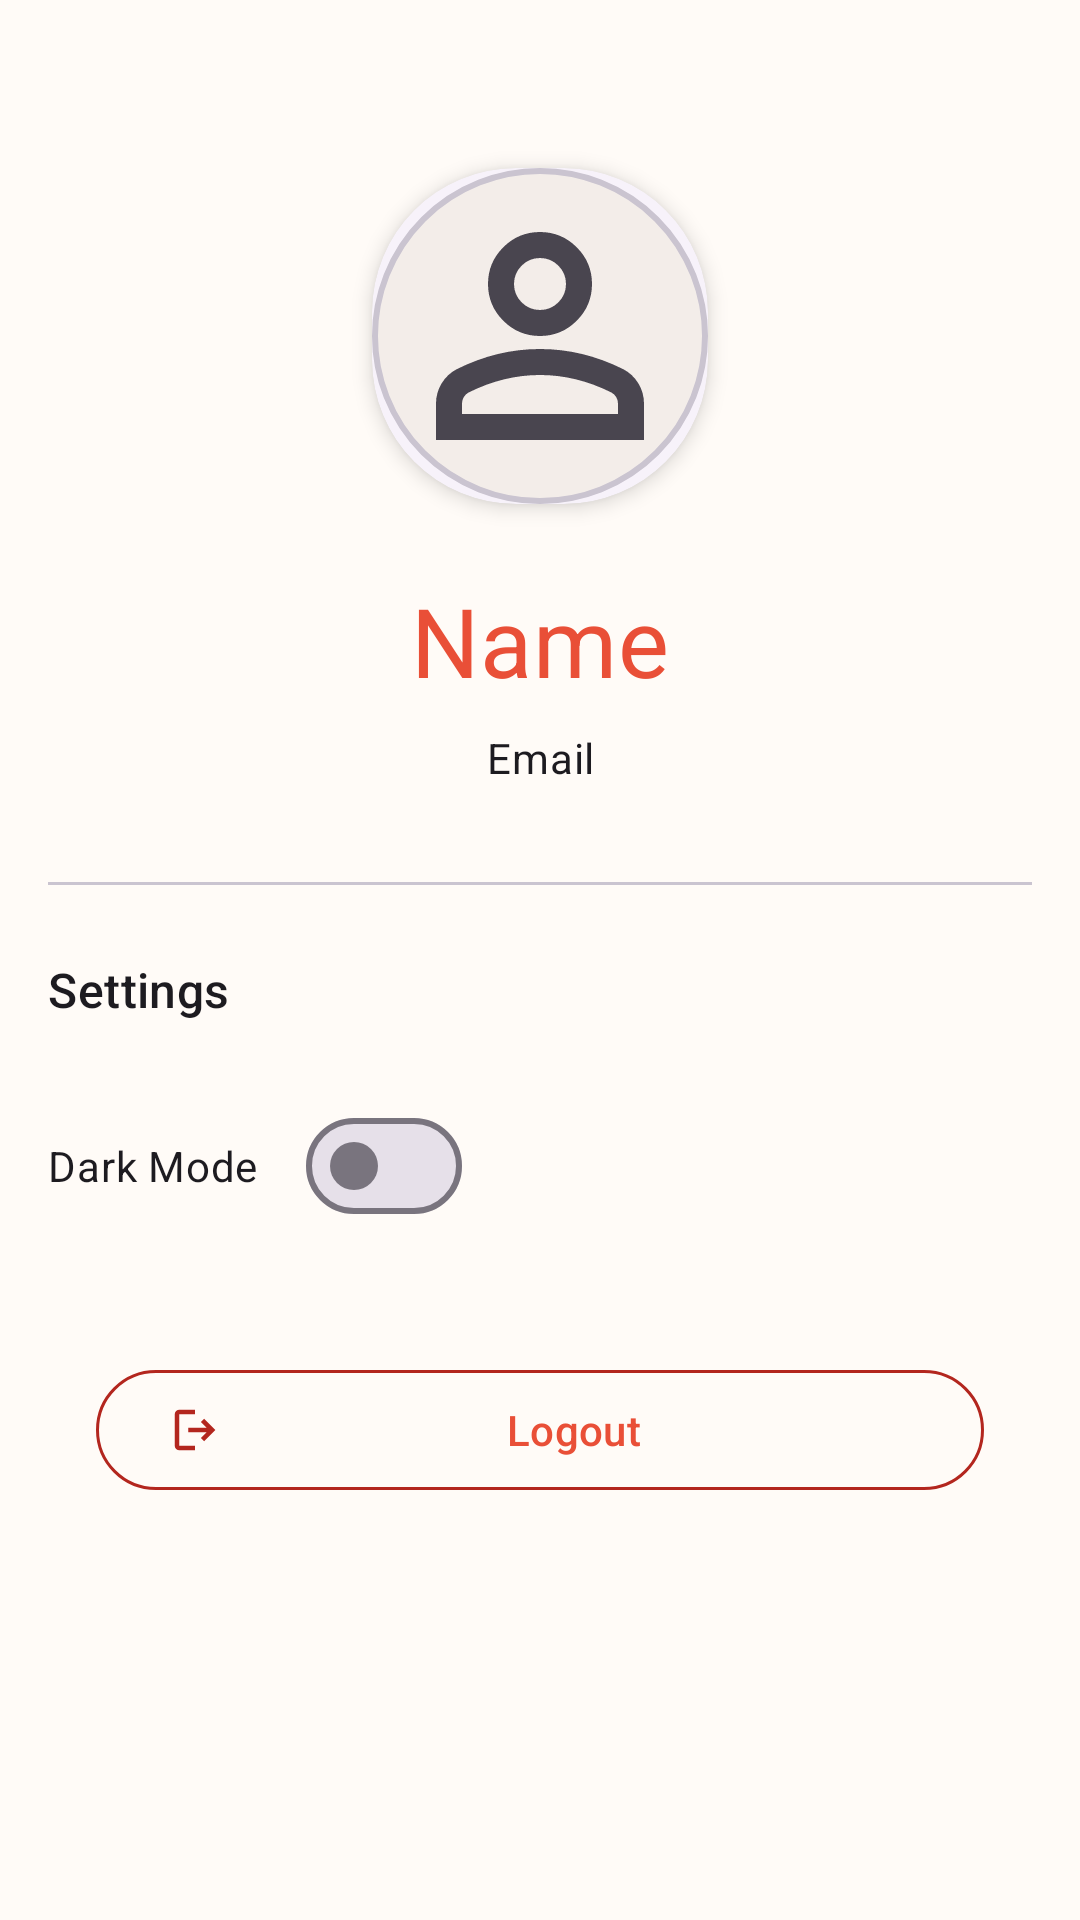

Point at icon controls on the screen. Image size 1080×1920, points as point (x, y).
Profile Display Picture: point (540, 336)
